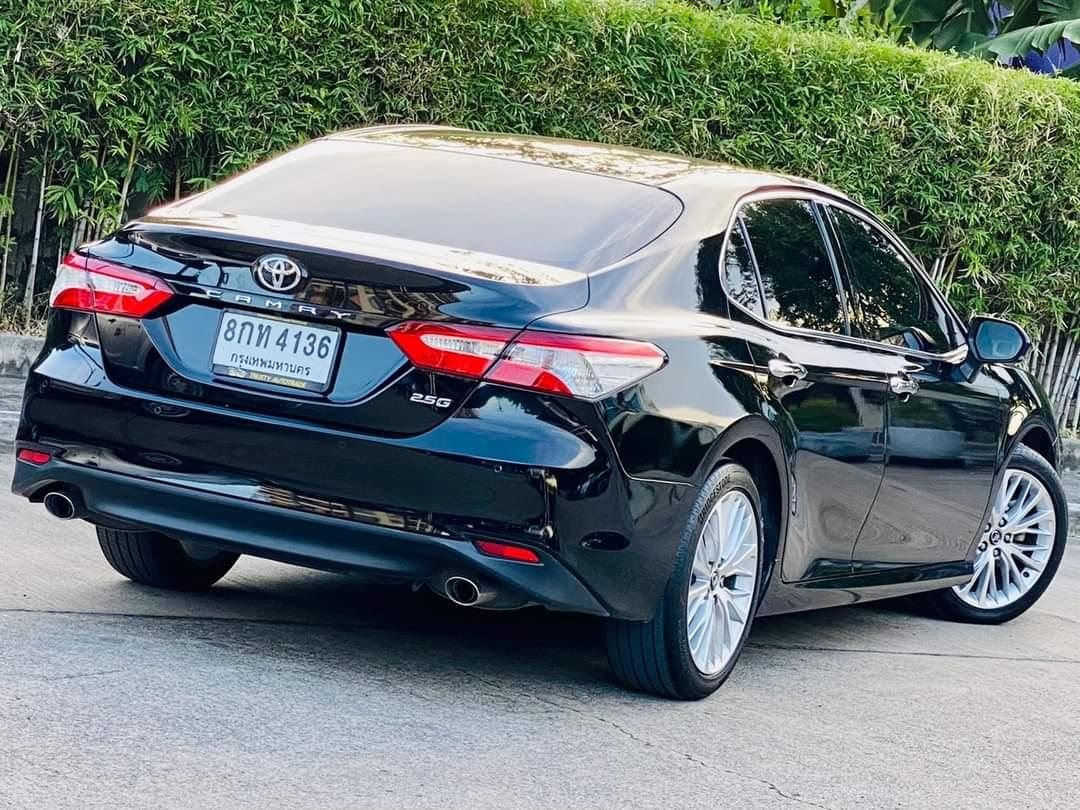license-plate: (209, 308, 348, 401)
